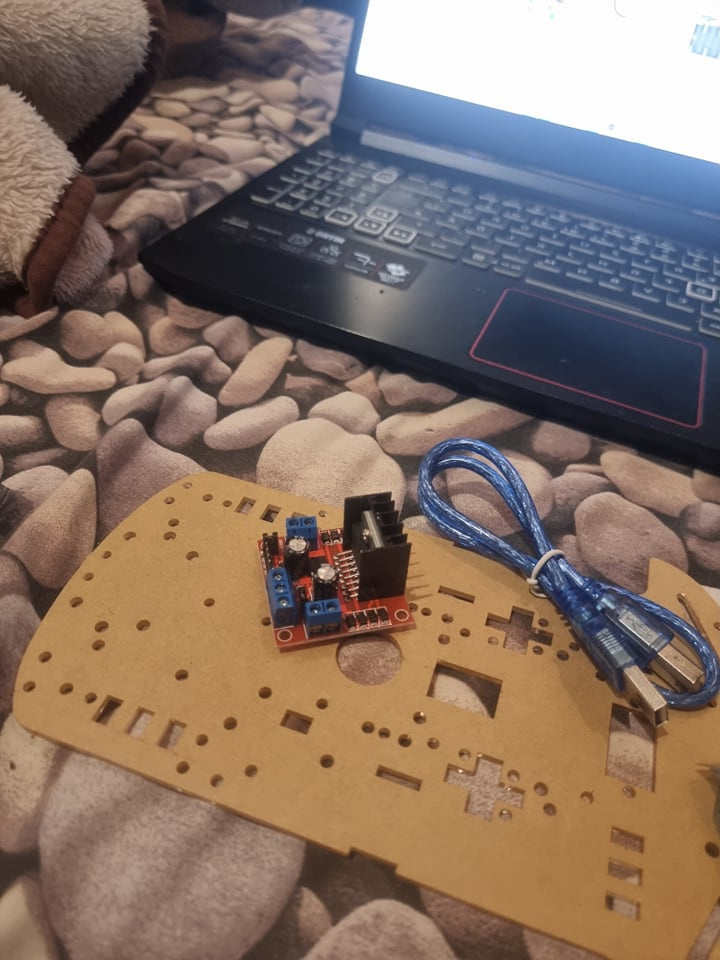MOTOR: (259, 489, 419, 646)
